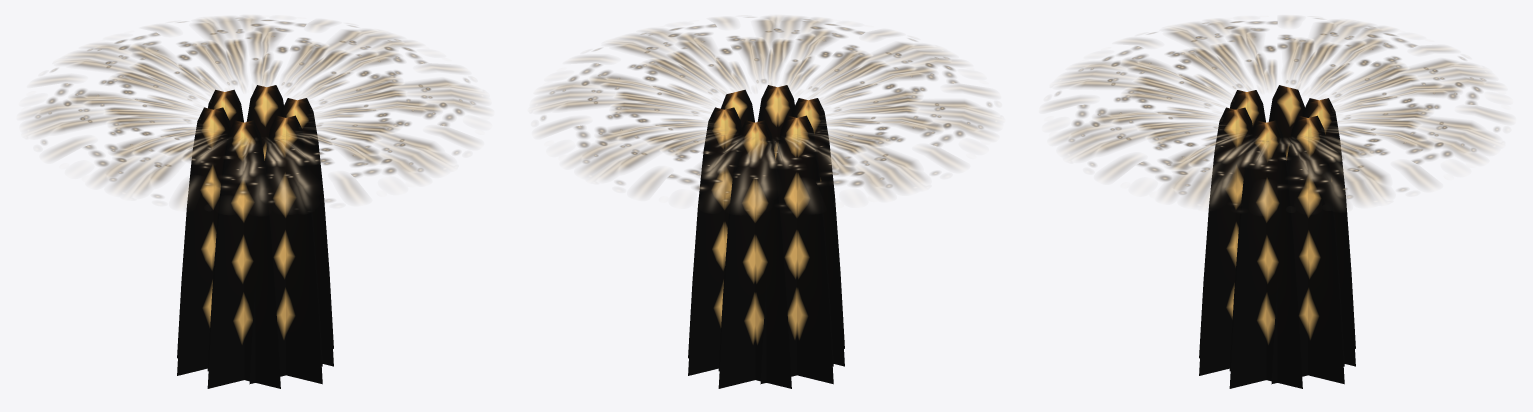
The model's file is lv1_launch_vfx.glb.
The picture shows the model from 3 angles, left to right: view 1: azimuth 30°, elevation 25°; view 2: azimuth 150°, elevation 25°; view 3: azimuth 270°, elevation 25°; orthographic projection.
Visible parts, largest first — view 1: Plume_Mesh, Dust_Ring_Mesh; view 2: Plume_Mesh, Dust_Ring_Mesh; view 3: Plume_Mesh, Dust_Ring_Mesh.
Part boxes in pixels (x1=…): Plume_Mesh: x1=177, y1=85, x2=333, y2=388; Dust_Ring_Mesh: x1=23, y1=16, x2=487, y2=211; Plume_Mesh: x1=688, y1=85, x2=844, y2=388; Dust_Ring_Mesh: x1=536, y1=16, x2=996, y2=210; Plume_Mesh: x1=1199, y1=85, x2=1355, y2=388; Dust_Ring_Mesh: x1=1045, y1=16, x2=1509, y2=211.
Size of the model in its own units: 34 by 20.2 by 34.
2 materials, 2 textured.
